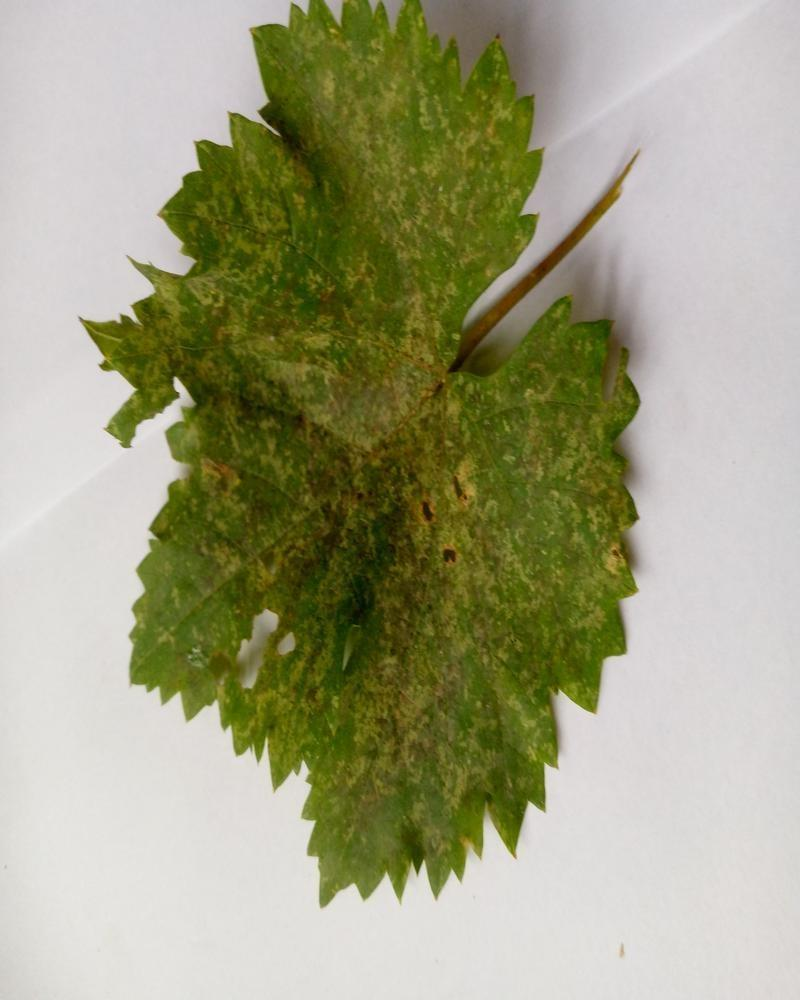Powdery-Mildew: (293, 304, 479, 444), (187, 452, 298, 578), (312, 37, 406, 148), (413, 452, 507, 561), (181, 264, 244, 327), (564, 533, 627, 596)
